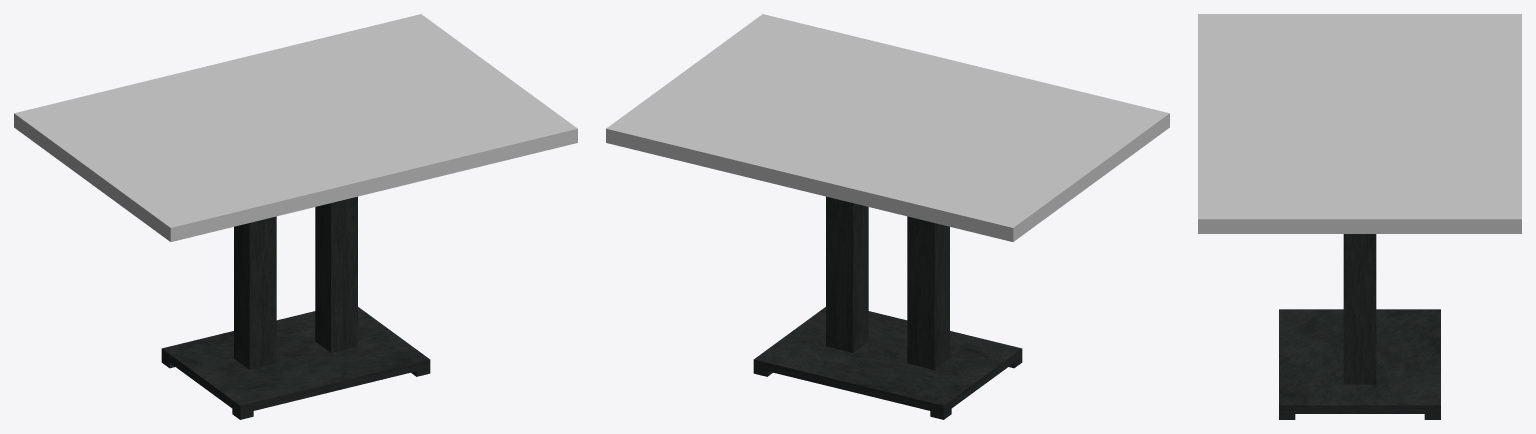
The model's file is Table.dae.
The picture shows the model from 3 angles, left to right: view 1: azimuth 30°, elevation 25°; view 2: azimuth 150°, elevation 25°; view 3: azimuth 270°, elevation 25°; orthographic projection. The views are drawn at different scales.
Parts seen in each view (by area): view 1: Table, Base, Leg, Leg.001; view 2: Table, Base, Leg, Leg.001; view 3: Table, Base, Leg.
Part boxes in pixels (box(x1,y1,x2,y2)): Table: box(14, 14, 577, 241); Base: box(161, 307, 430, 414); Leg: box(315, 196, 357, 352); Leg.001: box(234, 216, 276, 369); Table: box(606, 14, 1169, 241); Base: box(753, 307, 1022, 414); Leg: box(826, 196, 868, 352); Leg.001: box(907, 216, 949, 369); Table: box(1198, 14, 1521, 233); Base: box(1279, 309, 1440, 413); Leg: box(1343, 234, 1376, 384).
Size of the model in its own units: 3 by 2 by 1.74.
